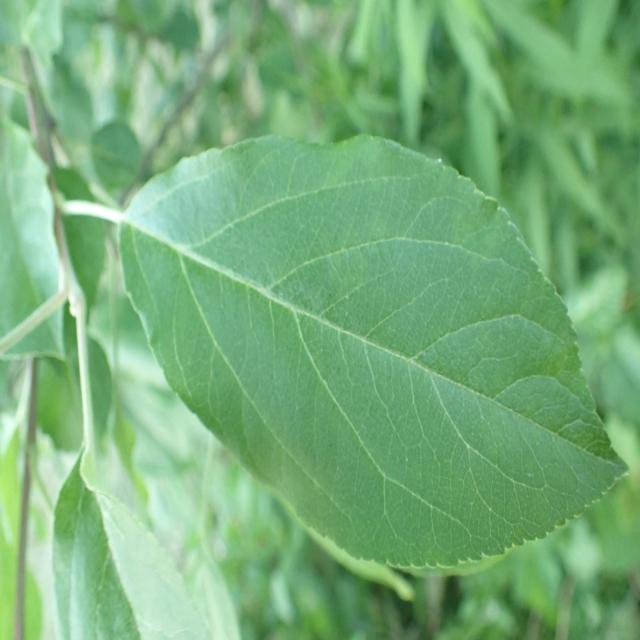healthy: (118, 134, 630, 572), (53, 454, 212, 640), (0, 118, 67, 362)
